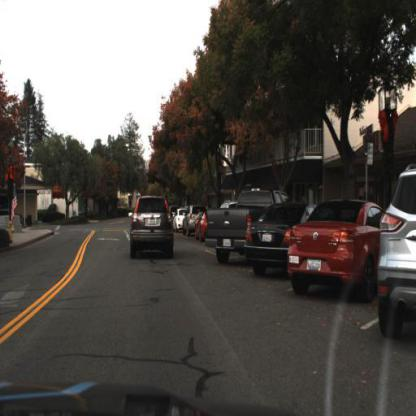car: (288, 192, 383, 305), (377, 162, 416, 346), (204, 183, 262, 262), (244, 200, 295, 278), (127, 192, 180, 263), (181, 202, 202, 241)
